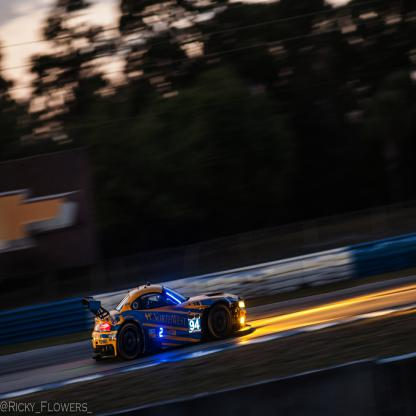Car: (83, 276, 275, 360)
